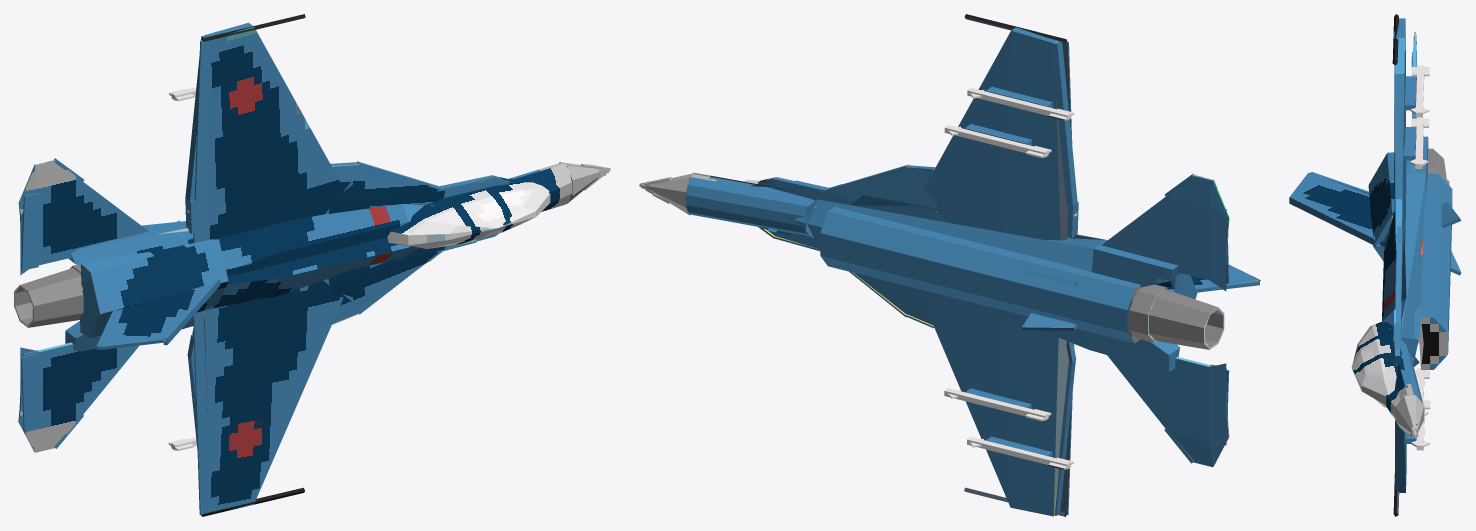
3 views of the same model, side by side, from view 1: azimuth 30°, elevation 25°; view 2: azimuth 150°, elevation 25°; view 3: azimuth 270°, elevation 25° (orthographic). The views are drawn at different scales.
Visible parts, largest first — view 1: GeometryNode_139, GeometryNode_339, GeometryNode_25, GeometryNode_81, GeometryNode_539, GeometryNode_124, GeometryNode_553, GeometryNode_95, GeometryNode_109, GeometryNode_568, GeometryNode_583, GeometryNode_869 (+7 smaller); view 2: GeometryNode_7, GeometryNode_139, GeometryNode_339, GeometryNode_25, GeometryNode_539, GeometryNode_553, GeometryNode_39, GeometryNode_583, GeometryNode_95, GeometryNode_109, GeometryNode_659, GeometryNode_627 (+5 smaller); view 3: GeometryNode_7, GeometryNode_25, GeometryNode_124, GeometryNode_568, GeometryNode_139, GeometryNode_81, GeometryNode_67, GeometryNode_925, GeometryNode_339, GeometryNode_39, GeometryNode_53, GeometryNode_687 (+9 smaller).
Boxes of the visible parts, x1,y1,x2,y2 form: GeometryNode_139: (186, 22, 352, 301); GeometryNode_339: (192, 180, 352, 511); GeometryNode_25: (65, 204, 423, 351); GeometryNode_81: (80, 239, 228, 338); GeometryNode_539: (18, 160, 148, 275); GeometryNode_124: (387, 179, 550, 248); GeometryNode_553: (18, 342, 138, 452); GeometryNode_95: (328, 165, 508, 213); GeometryNode_109: (328, 234, 494, 323); GeometryNode_568: (99, 283, 211, 349); GeometryNode_583: (14, 264, 83, 327); GeometryNode_869: (193, 311, 209, 515); GeometryNode_7: (820, 207, 1141, 343); GeometryNode_139: (913, 27, 1077, 303); GeometryNode_339: (913, 183, 1068, 516); GeometryNode_25: (794, 195, 1180, 371); GeometryNode_539: (1101, 175, 1229, 291); GeometryNode_553: (1107, 355, 1229, 467); GeometryNode_39: (686, 173, 818, 236); GeometryNode_583: (1129, 284, 1224, 349); GeometryNode_95: (761, 168, 937, 220); GeometryNode_109: (767, 230, 936, 324); GeometryNode_659: (1051, 41, 1077, 206); GeometryNode_627: (1054, 360, 1075, 515); GeometryNode_7: (1414, 173, 1452, 369); GeometryNode_25: (1382, 136, 1428, 366); GeometryNode_124: (1351, 322, 1404, 407); GeometryNode_568: (1290, 172, 1373, 235); GeometryNode_139: (1394, 19, 1405, 260); GeometryNode_81: (1368, 152, 1394, 260); GeometryNode_67: (1395, 395, 1424, 434); GeometryNode_925: (1289, 196, 1375, 244); GeometryNode_339: (1395, 420, 1406, 492); GeometryNode_39: (1389, 328, 1422, 402); GeometryNode_53: (1386, 364, 1407, 428); GeometryNode_687: (1395, 243, 1401, 323).
Size of the model in its own units: 32.74 by 25.33 by 8.66.
Materials: 3 (3 with a texture image).
